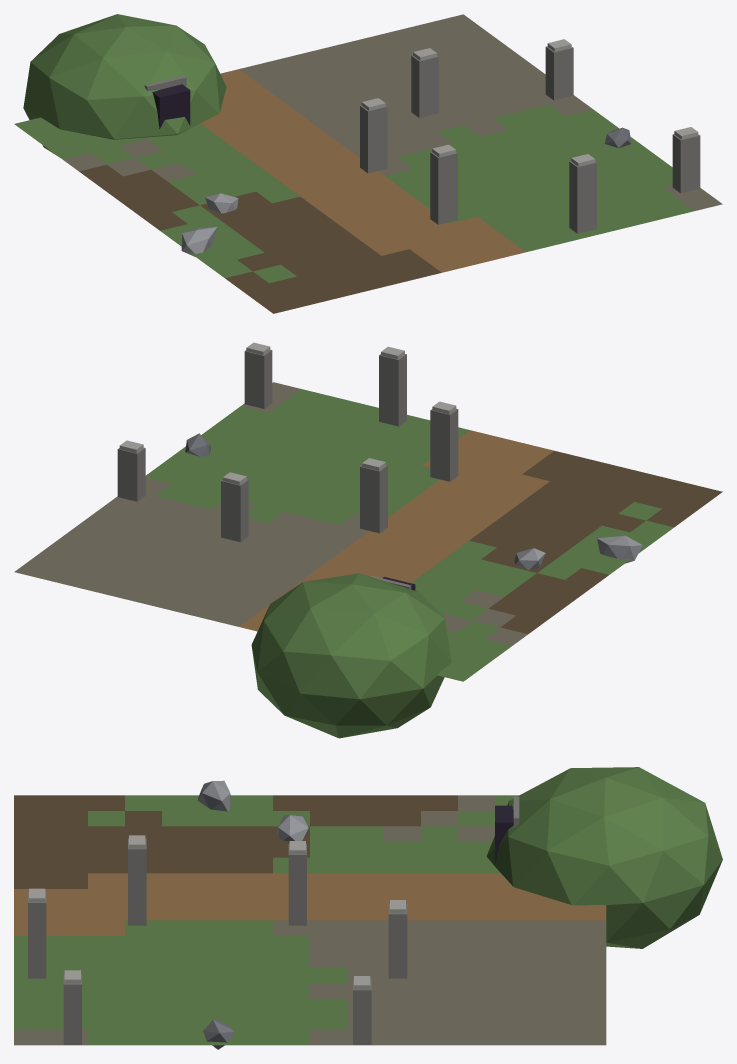
The model's file is chunk_1_20.glb.
3 views of the same model, one above another, from view 1: azimuth 30°, elevation 25°; view 2: azimuth 150°, elevation 25°; view 3: azimuth 270°, elevation 25° (orthographic). The views are drawn at different scales.
Parts seen in each view (by area): view 1: chunk_1_20; view 2: chunk_1_20; view 3: chunk_1_20.
Boxes of the visible parts, box(x1,y1,x2,y2) form: chunk_1_20: box(14, 14, 722, 313); chunk_1_20: box(14, 342, 722, 738); chunk_1_20: box(14, 767, 722, 1049).
Size of the model in its own units: 16.12 by 4.74 by 19.16.
